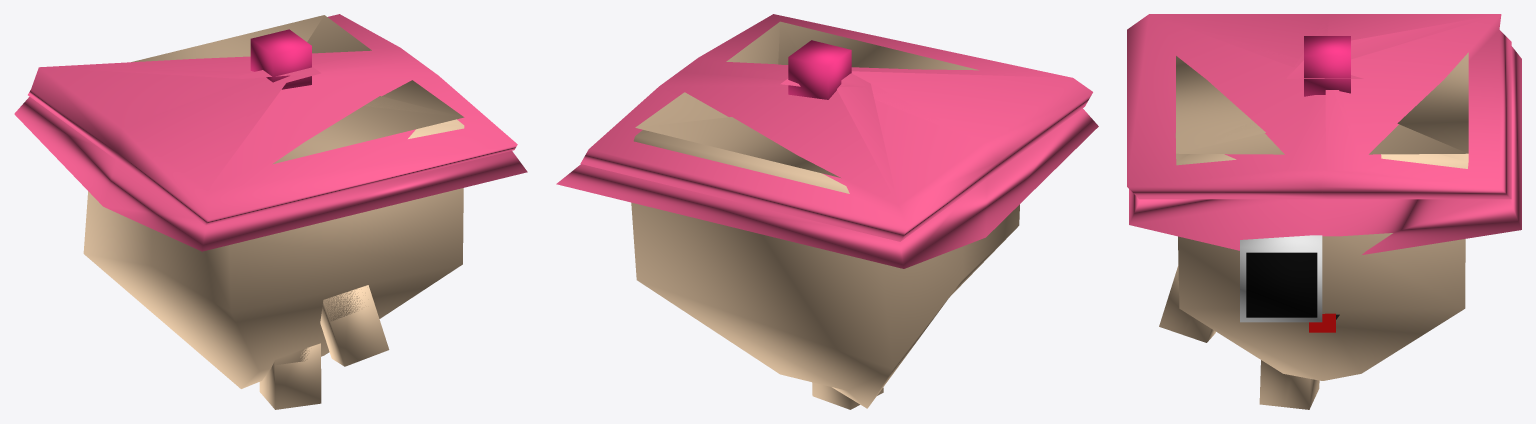
File: bug.glb
3 views of the same model, side by side, from view 1: azimuth 30°, elevation 25°; view 2: azimuth 150°, elevation 25°; view 3: azimuth 270°, elevation 25° (orthographic). The views are drawn at different scales.
Parts seen in each view (by area): view 1: Cube.001, Cube, Cube.002, Cube.004, Cube.003; view 2: Cube.001, Cube, Cube.003, Cube.004; view 3: Cube.001, Cube, Cube.006, Cube.003, Cube.005, Cube.004, Cube.002, Cube.009.
Part boxes in pixels (box(x1,y1,x2,y2)): Cube.001: box(14, 14, 527, 251); Cube: box(83, 15, 464, 388); Cube.002: box(320, 285, 389, 366); Cube.004: box(259, 343, 321, 409); Cube.003: box(250, 29, 311, 89); Cube.001: box(556, 14, 1098, 268); Cube: box(631, 21, 1019, 408); Cube.003: box(788, 40, 851, 99); Cube.004: box(812, 382, 883, 409); Cube.001: box(1127, 14, 1521, 254); Cube: box(1175, 52, 1468, 380); Cube.006: box(1246, 252, 1317, 317); Cube.003: box(1304, 36, 1350, 96); Cube.005: box(1240, 235, 1322, 322); Cube.004: box(1259, 360, 1319, 409); Cube.002: box(1159, 265, 1215, 342); Cube.009: box(1309, 313, 1335, 332).
Size of the model in its own units: 2.77 by 2.68 by 2.7.
